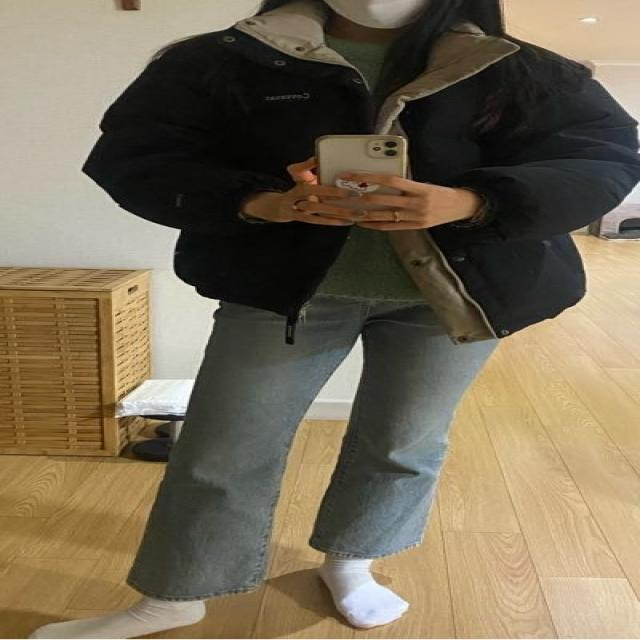denimpants: (122, 274, 496, 602)
padding: (80, 22, 640, 350)
